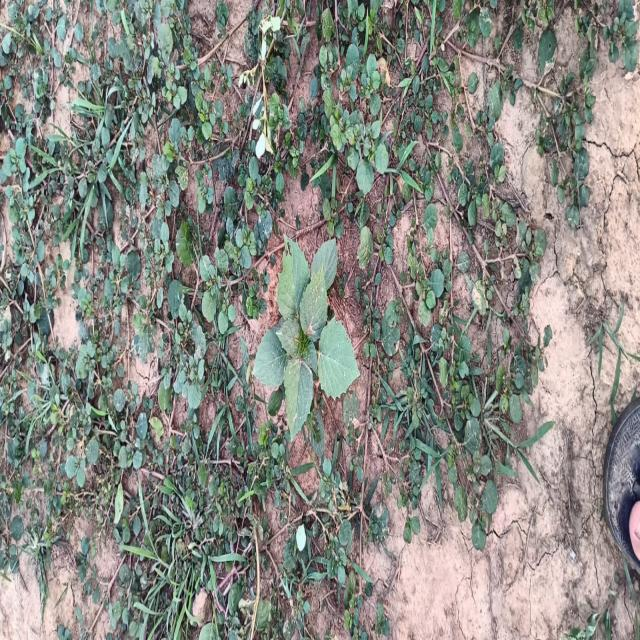plant: (254, 235, 360, 438)
